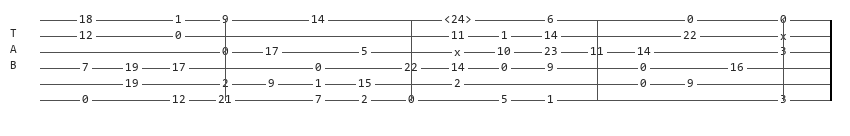0: (82, 94, 93, 106), (175, 30, 186, 42), (222, 46, 233, 58), (315, 62, 326, 74), (408, 94, 419, 106), (501, 62, 512, 74), (640, 78, 651, 90), (640, 62, 651, 74), (687, 14, 698, 26), (780, 14, 791, 26)
1: (175, 14, 186, 26), (315, 78, 326, 90), (501, 30, 512, 42), (547, 94, 558, 106)
10: (497, 46, 515, 58)
11: (451, 30, 469, 42), (590, 46, 608, 58)
12: (79, 30, 97, 42), (172, 94, 190, 106)
14: (311, 14, 329, 26), (451, 62, 469, 74), (544, 30, 562, 42), (637, 46, 655, 58)
15: (358, 78, 376, 90)
16: (730, 62, 748, 74)
17: (172, 62, 190, 74), (265, 46, 283, 58)
18: (79, 14, 97, 26)
19: (125, 62, 143, 74), (125, 78, 143, 90)
2: (222, 78, 233, 90), (361, 94, 372, 106), (454, 78, 465, 90)
21: (218, 94, 236, 106)
22: (404, 62, 422, 74), (683, 30, 701, 42)
23: (544, 46, 562, 58)
3: (780, 46, 791, 58), (780, 94, 791, 106)
5: (361, 46, 372, 58), (501, 94, 512, 106)
6: (547, 14, 558, 26)
7: (82, 62, 93, 74), (315, 94, 326, 106)
9: (222, 14, 233, 26), (268, 78, 279, 90), (547, 62, 558, 74), (687, 78, 698, 90)
harmonic: (444, 14, 476, 26)
x: (454, 47, 465, 57), (780, 31, 791, 41)
